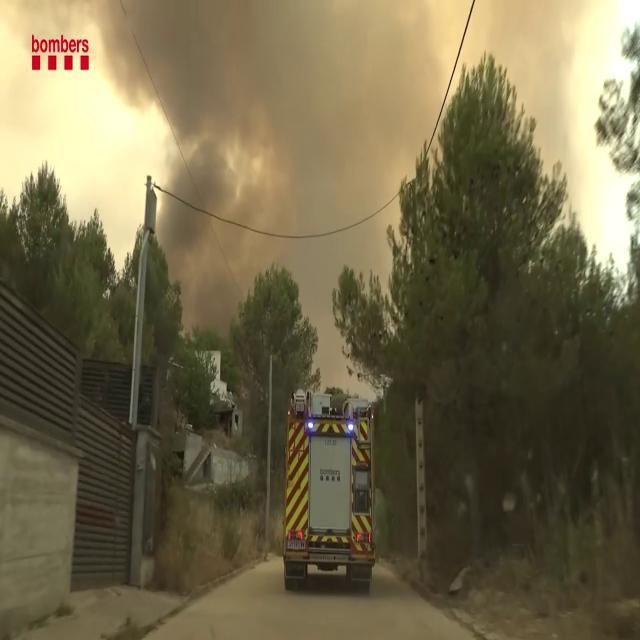Smoke: (114, 1, 406, 298)
